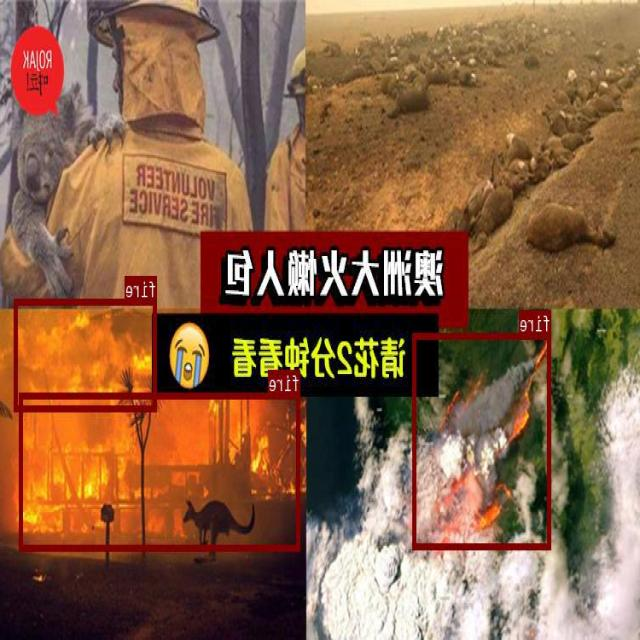fire: (20, 392, 301, 549), (413, 332, 552, 548), (15, 298, 157, 410)
